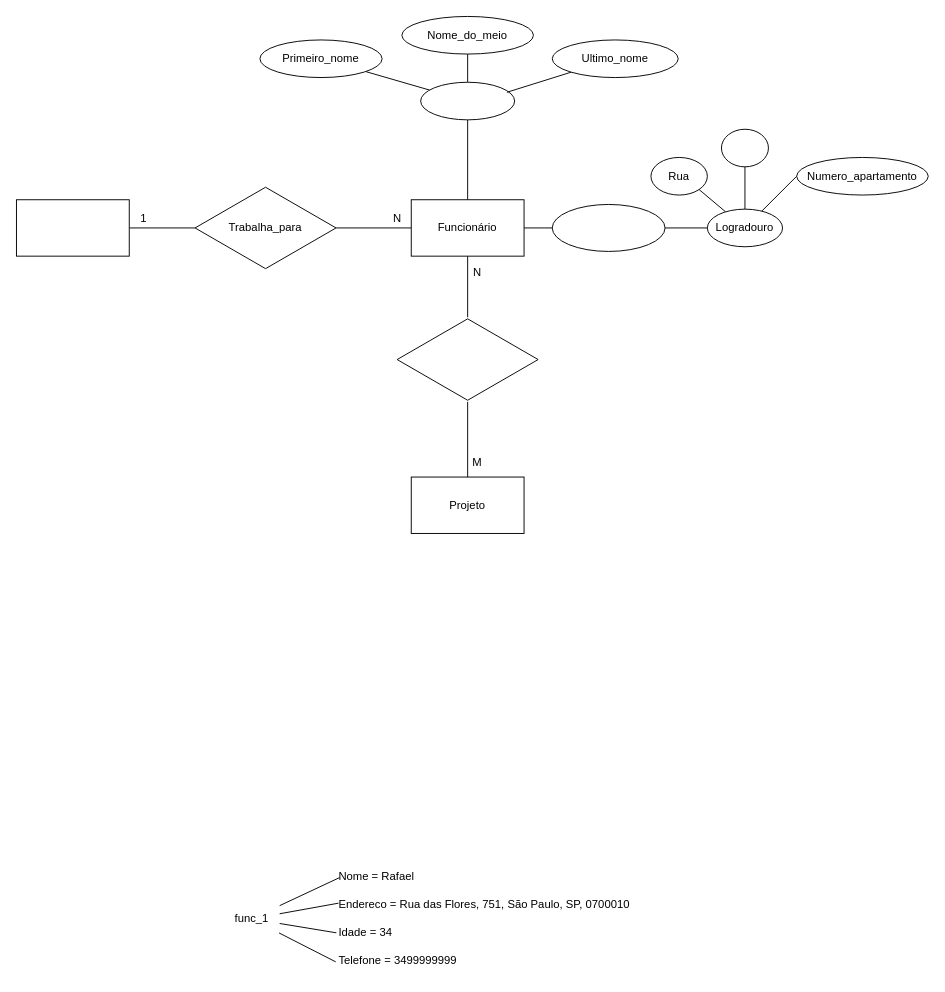
The diagram is 945 pixels wide and 992 high, and some of its shapes have lost their labels. Each missing label, with the centre of its shape:
Departamento: the point at 72,227
Endereço: the point at 608,227
Nome: the point at 467,100
Numero: the point at 744,147
Participa_de: the point at 467,359
